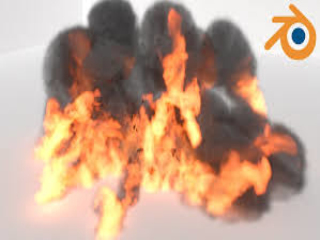fire: (35, 101, 282, 233)
smoke: (38, 9, 167, 97)
